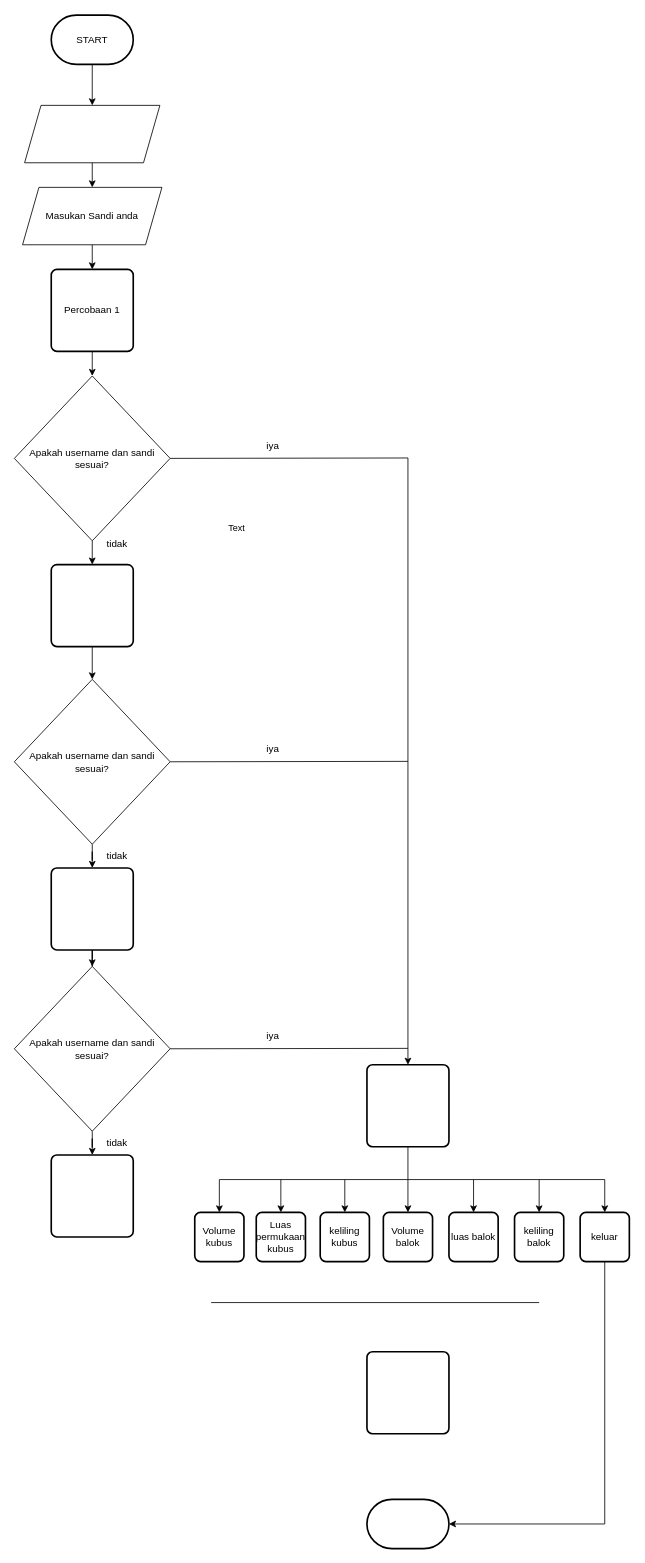
The diagram is 645 pixels wide and 1563 high, and some of its shapes have lost their labels. Each missing label, with the box of its shape:
Anda tidak berhasil login: (50, 1154, 134, 1237)
END: (366, 1498, 449, 1549)
hasil akhir: (366, 1351, 449, 1434)
Masukan Username anda: (24, 105, 160, 163)
Menu Program perhitungan bangun ruang: (366, 1064, 449, 1147)
Percobaan 2: (50, 563, 134, 647)
Percobaan 3: (50, 867, 134, 950)
